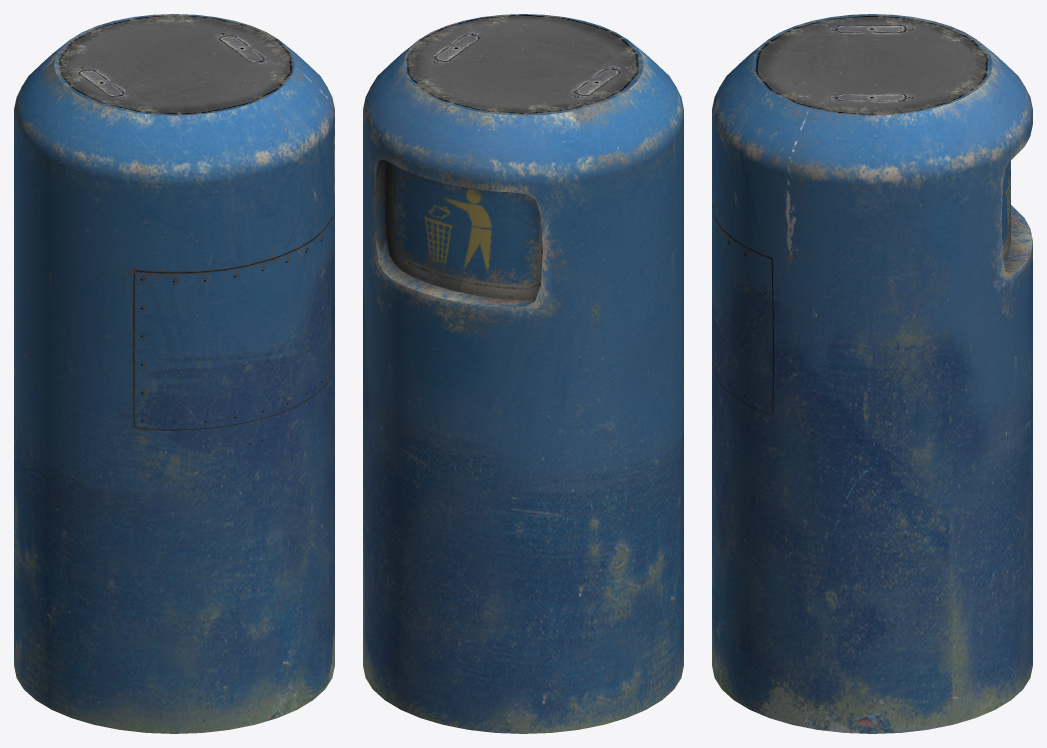
File: Trash_bin.FBX
3 views of the same model, side by side, from view 1: azimuth 30°, elevation 25°; view 2: azimuth 150°, elevation 25°; view 3: azimuth 270°, elevation 25° (orthographic).
Visible parts, largest first — view 1: Trash_bin; view 2: Trash_bin; view 3: Trash_bin.
Boxes of the visible parts, x1,y1,x2,y2 form: Trash_bin: (14, 14, 334, 733); Trash_bin: (363, 14, 683, 733); Trash_bin: (712, 14, 1032, 733).
Size of the model in its own units: 35.57 by 73.6 by 35.57.
Materials: 1 (1 with a texture image).
